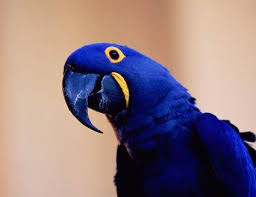guacamaya: (62, 41, 255, 191)
